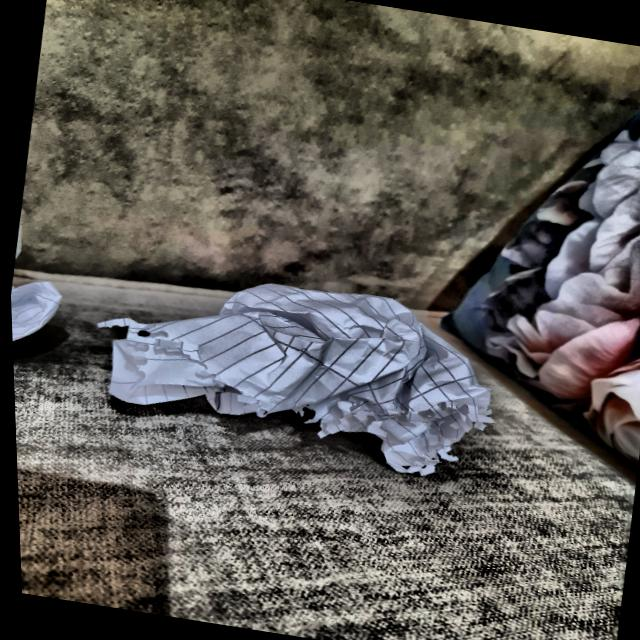Paper: (91, 249, 505, 471)
